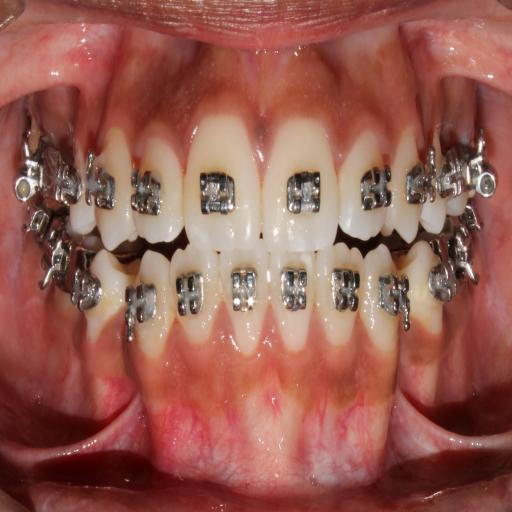correct_brace: (409, 239, 449, 340), (81, 249, 125, 336), (283, 161, 325, 220), (197, 163, 237, 219), (359, 163, 394, 219), (125, 277, 156, 339), (173, 270, 207, 325), (378, 265, 412, 317), (85, 158, 115, 216), (406, 155, 436, 210), (332, 266, 360, 316), (130, 171, 163, 212), (428, 256, 457, 302), (73, 268, 100, 308)
incorrect_brace: (341, 131, 386, 239), (318, 248, 364, 347), (170, 251, 219, 342)
